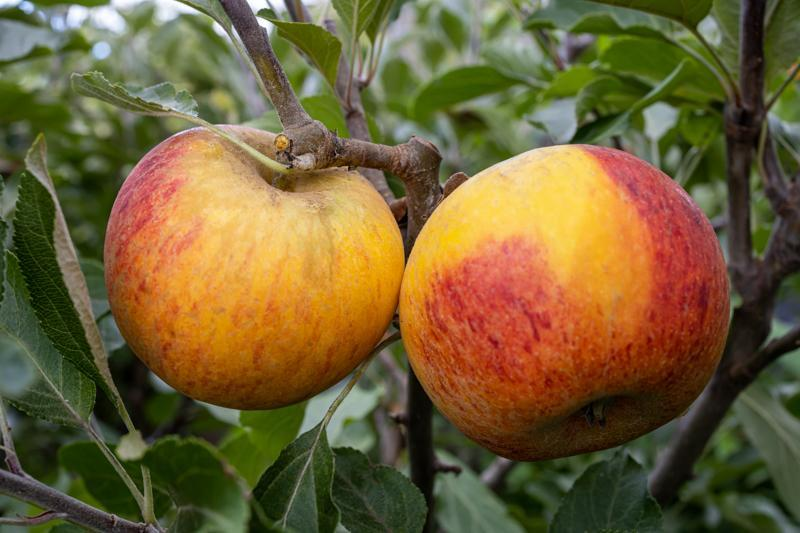apple: (393, 138, 725, 466), (103, 115, 419, 418)
